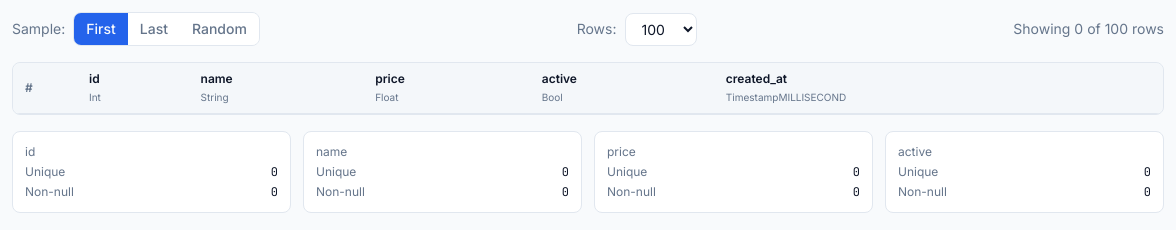
Test: DataPreview › Sample Mode Selection › should show Reshuffle button in random mode
This screenshot has width=1176, height=230.
Click the button "Random" at (219, 29), box [180,13,259,45]
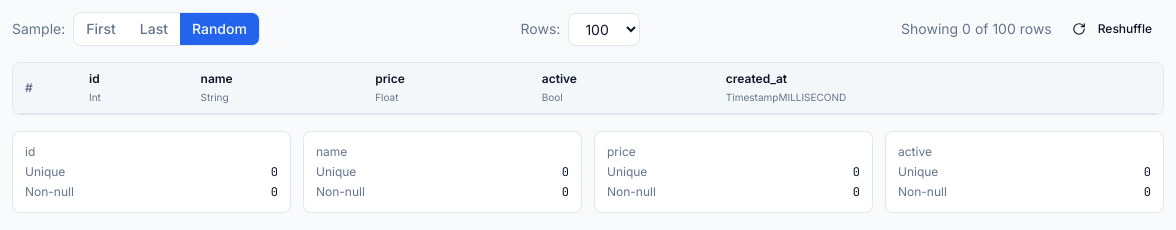
Check: the button "Reshuffle" is shown, box [1060,13,1164,45]
